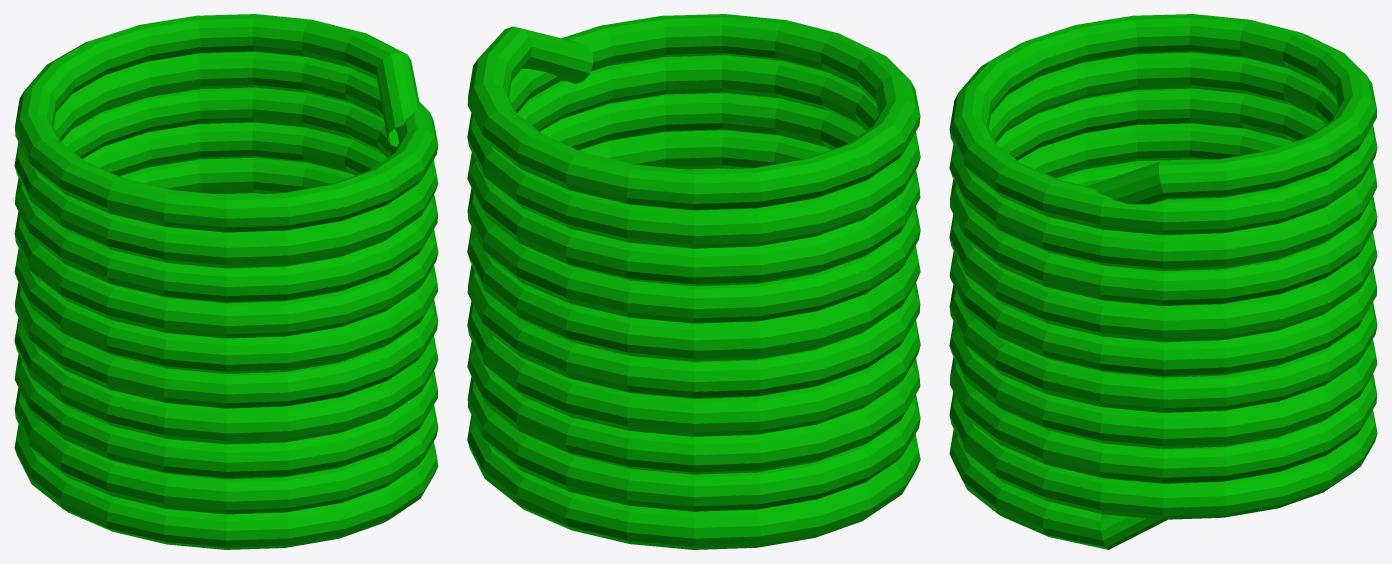
File: binding.glb
3 views of the same model, side by side, from view 1: azimuth 30°, elevation 25°; view 2: azimuth 150°, elevation 25°; view 3: azimuth 270°, elevation 25° (orthographic). The views are drawn at different scales.
Parts seen in each view (by area): view 1: Spiral.001; view 2: Spiral.001; view 3: Spiral.001.
Part boxes in pixels (bbox=[...]): Spiral.001: bbox=[14, 14, 438, 549]; Spiral.001: bbox=[467, 14, 920, 549]; Spiral.001: bbox=[949, 14, 1377, 549].
Bounding box in the file's own units: 2.19 × 2.19 × 2.19.
